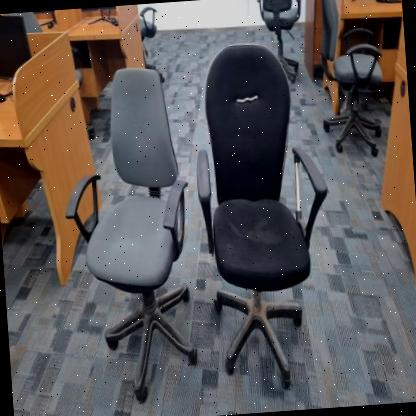chair: (181, 32, 349, 395), (51, 58, 210, 406)
